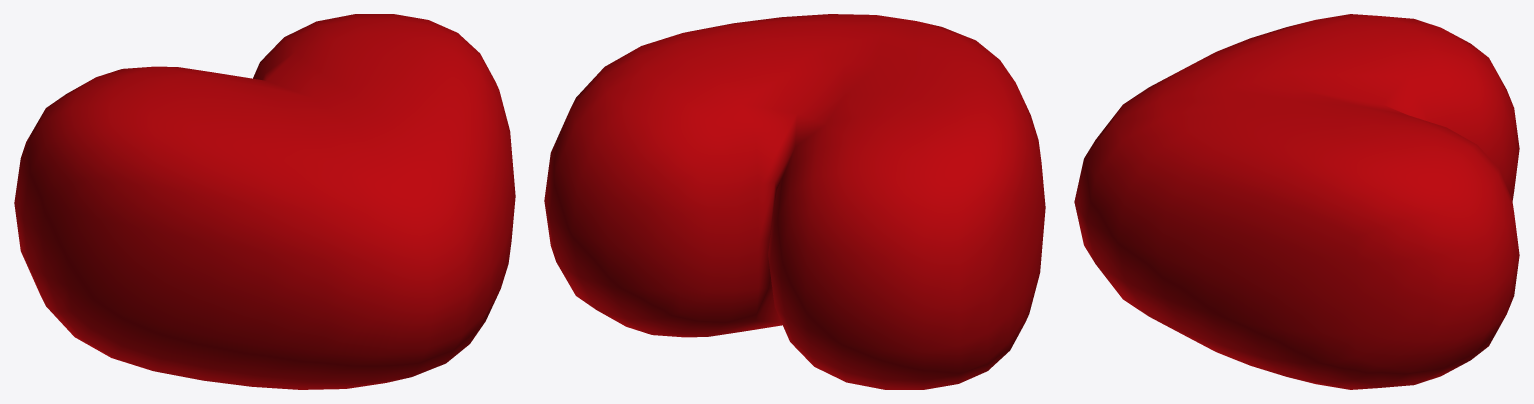
The model's file is Heart.fbx.
3 views of the same model, side by side, from view 1: azimuth 30°, elevation 25°; view 2: azimuth 150°, elevation 25°; view 3: azimuth 270°, elevation 25° (orthographic). The views are drawn at different scales.
Parts seen in each view (by area): view 1: Heart; view 2: Heart; view 3: Heart.
Part boxes in pixels (x1,y1,x2,y2): Heart: (14,14,515,389); Heart: (544,14,1045,389); Heart: (1074,14,1519,389).
Size of the model in its own units: 200 by 339 by 358.
